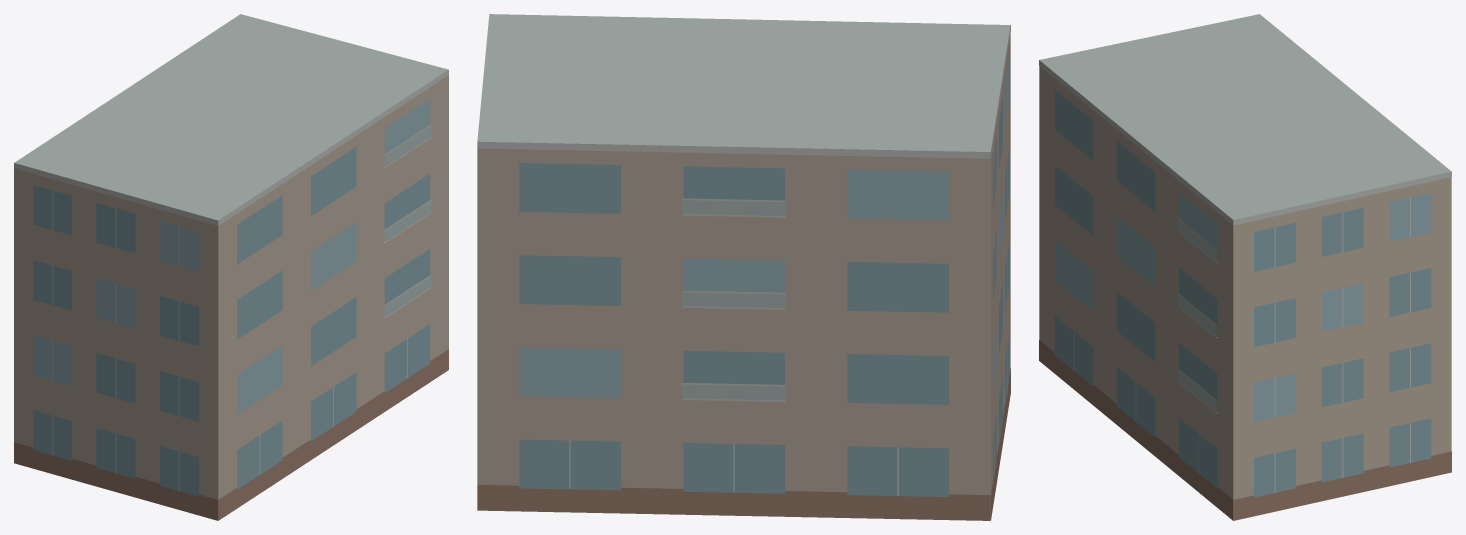
File: survey-upis-32742246.glb
3 views of the same model, side by side, from view 1: azimuth 30°, elevation 25°; view 2: azimuth 150°, elevation 25°; view 3: azimuth 270°, elevation 25° (orthographic). The views are drawn at different scales.
Visible parts, largest first — view 1: survey-upis-32742246.tmp; view 2: survey-upis-32742246.tmp; view 3: survey-upis-32742246.tmp.
Part boxes in pixels (left/top/right/bottom): survey-upis-32742246.tmp: left=14, top=14, right=448, bottom=520; survey-upis-32742246.tmp: left=477, top=14, right=1010, bottom=520; survey-upis-32742246.tmp: left=1039, top=14, right=1451, bottom=520.
Size of the model in its own units: 19.54 by 13.3 by 16.54.
